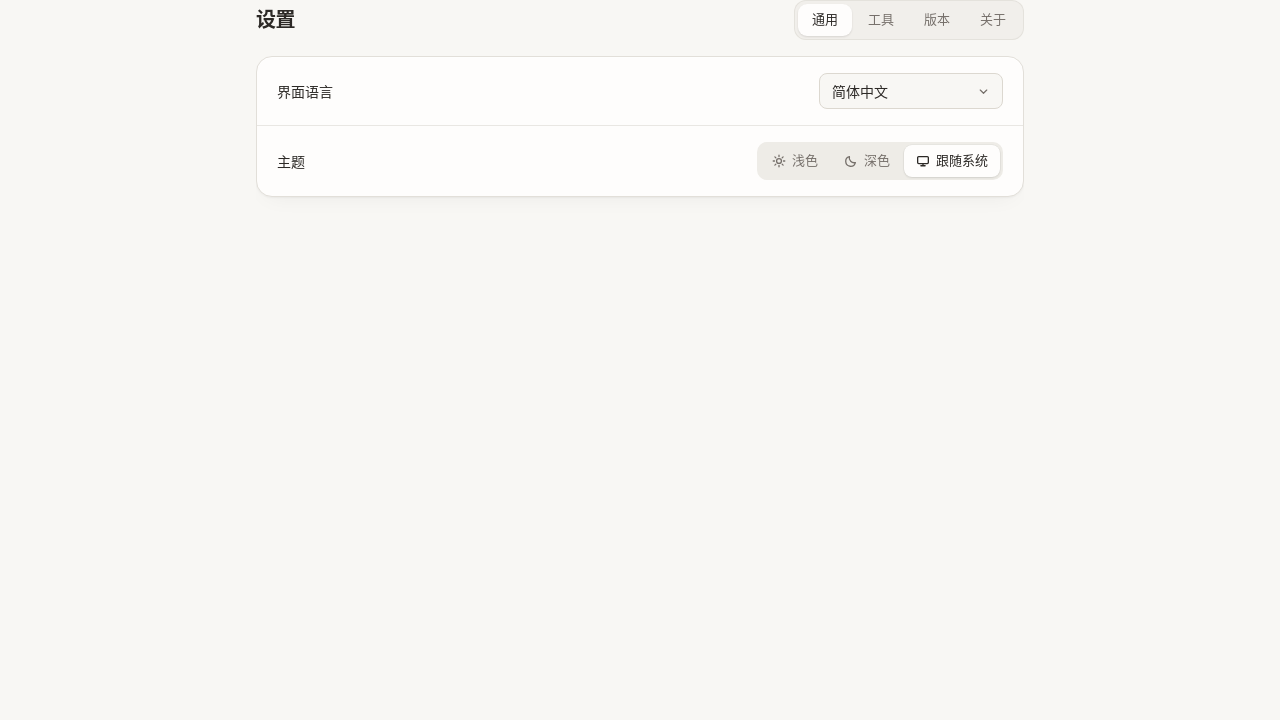
it: SettingsPage data safety › acknowledges a saved setting quietly beside the title, not with a toast
Click the radio button labelled "深色": (867, 161) x1=832 y1=145 x2=902 y2=177
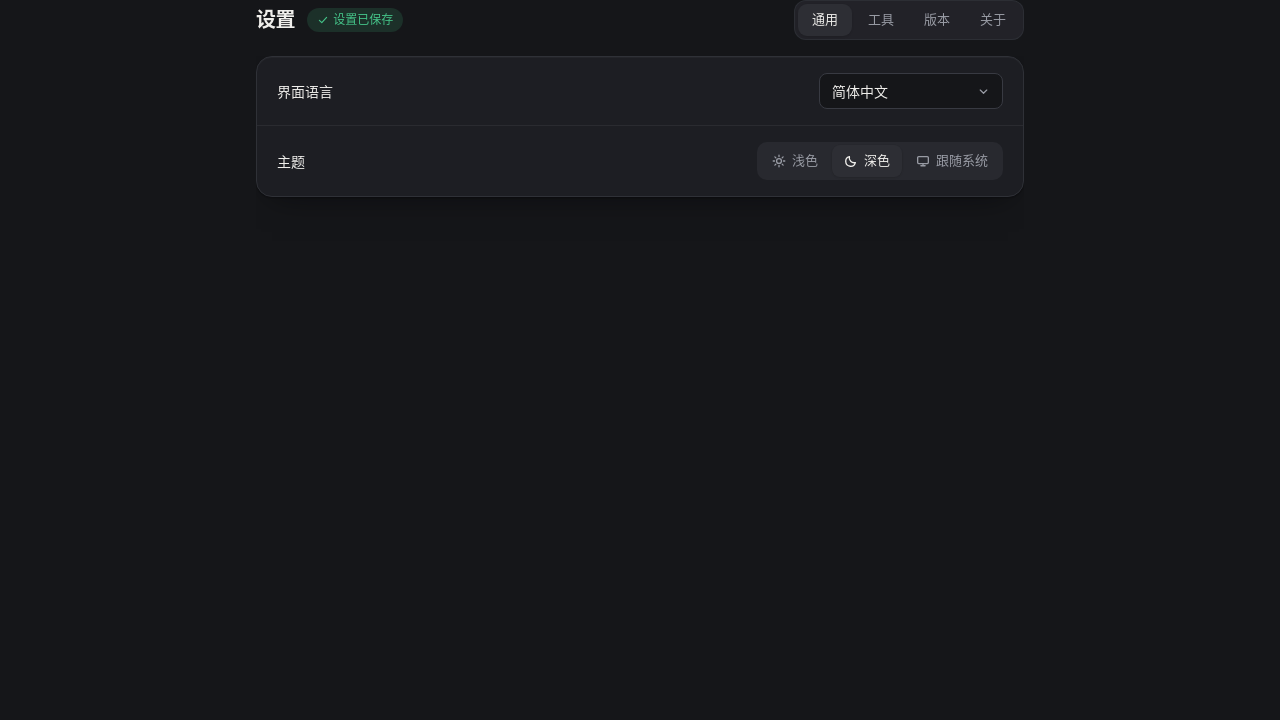
Now the message with test id "settings-saved" reads "设置已保存", box x1=333 y1=12 x2=393 y2=27
